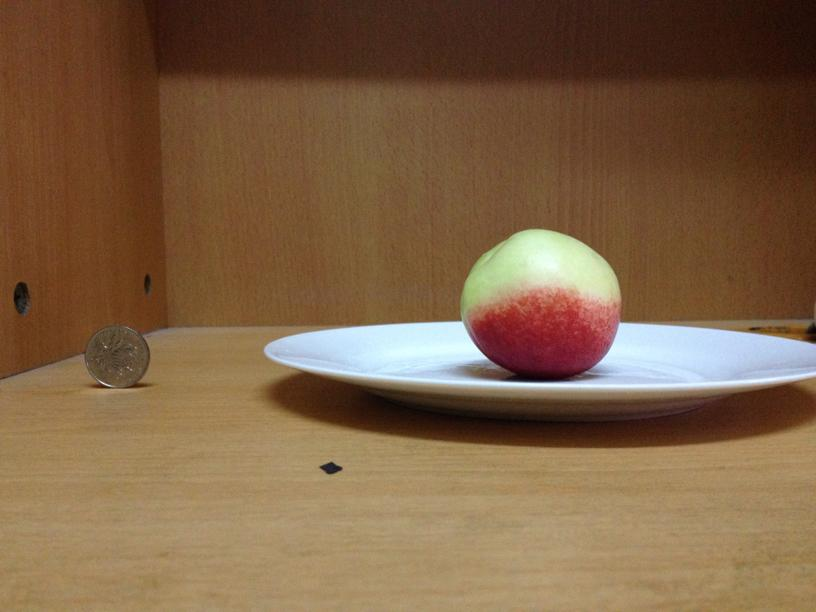coin: (83, 323, 151, 387)
peach: (462, 225, 621, 374)
